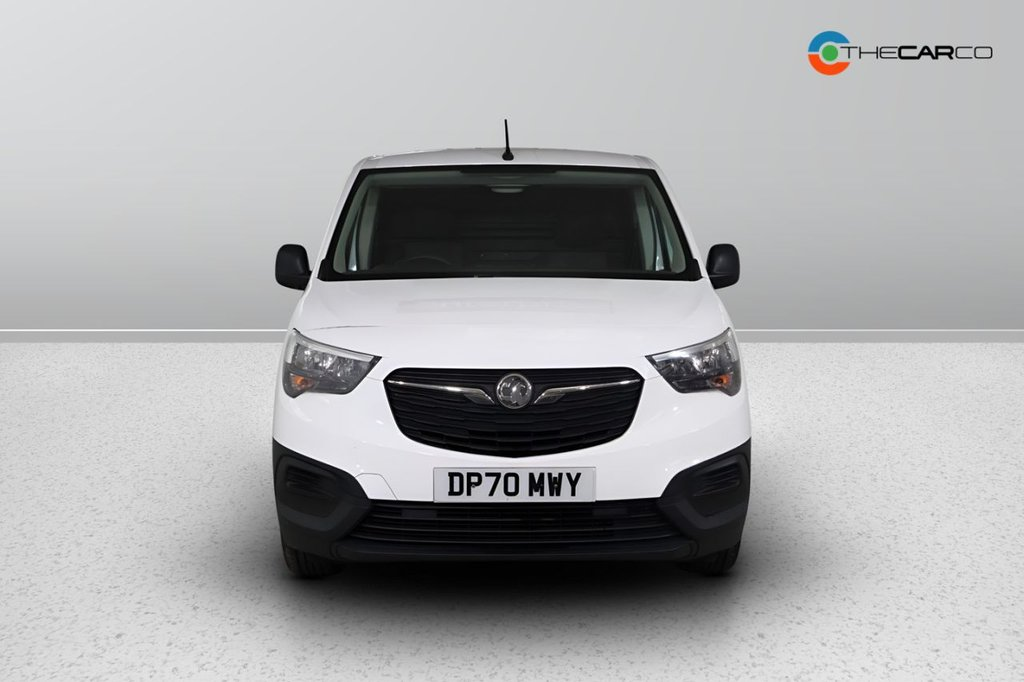car: (265, 137, 758, 591)
